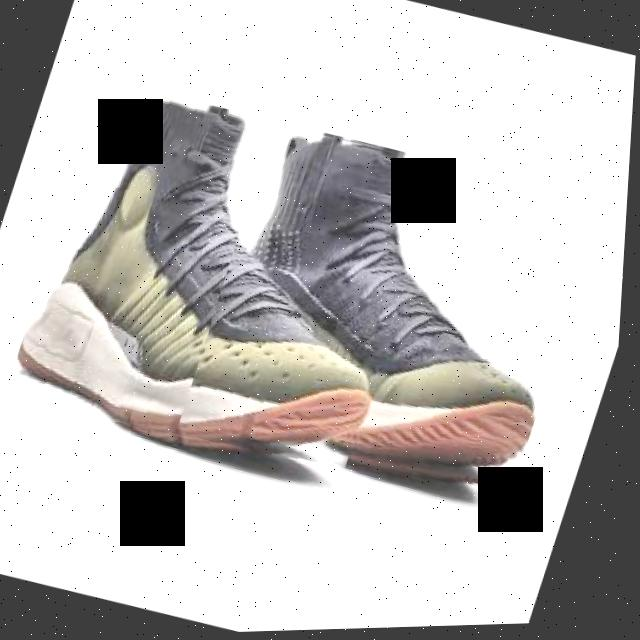shoe: (3, 72, 455, 492), (177, 117, 611, 517)
